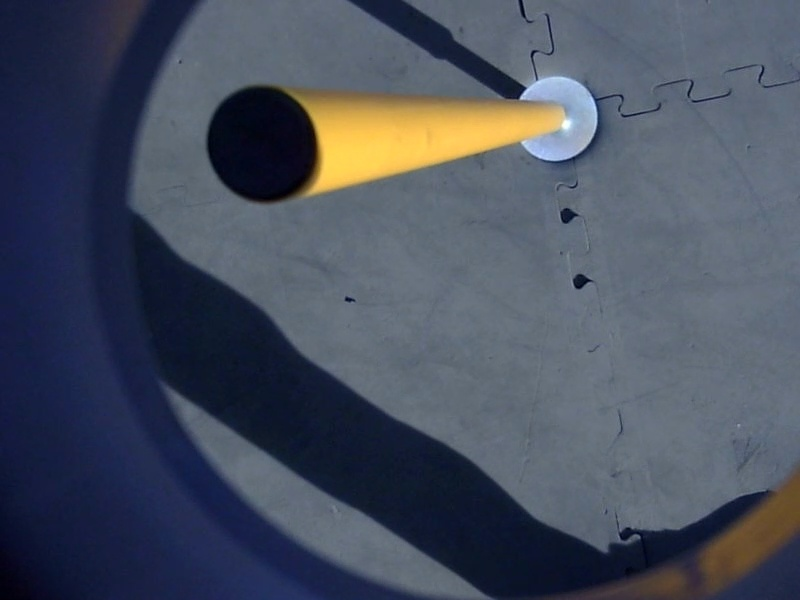tip: (199, 81, 328, 209)
